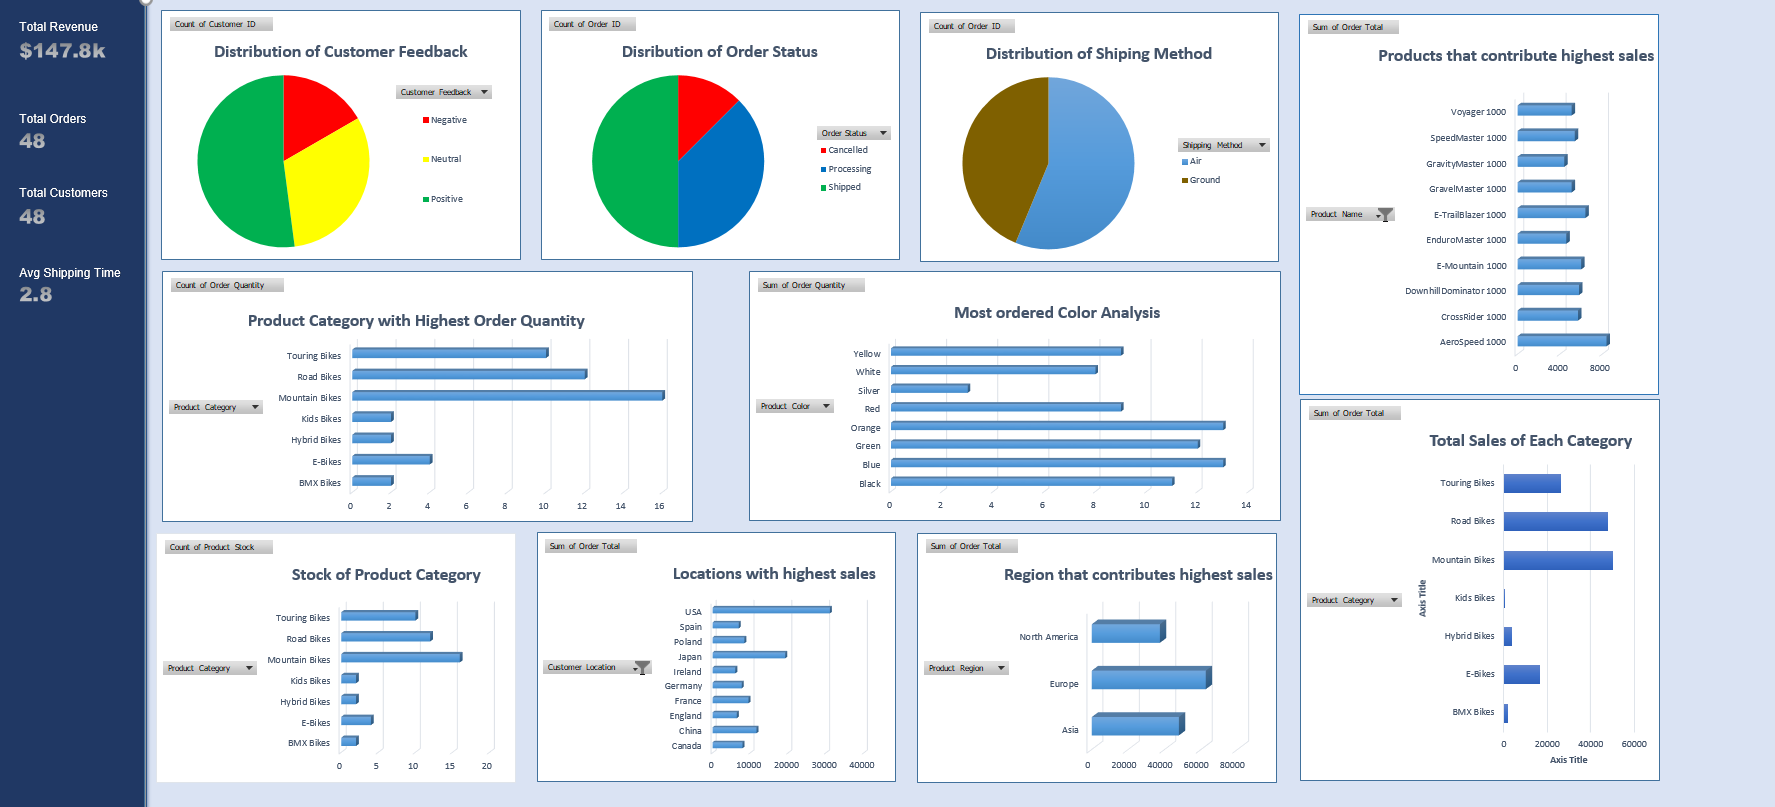

The dashboard page shown, as its layout file describes it:
{"tool":"powerbi","page":{"name":"Duplicate of Page 1","canvas":[1280,720],"ordinal":1},"visuals":[{"type":"cardVisual","title":"Total Revenue","fields":{"Data":["Sum(Sales.Order Total)"]},"box":[0,0,248.5,151.8],"z":0},{"type":"cardVisual","fields":{"Data":["Sum(Sales.Product Price)"]},"box":[262.2,1.2,247.2,151.8],"z":1000},{"type":"cardVisual","fields":{"Data":["CountNonNull(Sales.Customer ID)"]},"box":[523.2,1.2,235,150.5],"z":2000},{"type":"cardVisual","fields":{"Data":["CountNonNull(Sales.Order ID)"]},"box":[772,0,247.2,150.5],"z":3000},{"type":"clusteredBarChart","fields":{"Y":["Sum(Sales.Order Total)"],"Category":["Sales.Product Category"]},"box":[28.2,150.5,367.2,296.2],"z":4000},{"type":"clusteredBarChart","fields":{"Y":["Sum(Sales.Order Total)"],"Category":["Sales.Product Name"]},"box":[28.2,456.5,367.2,263.1],"z":5000},{"type":"clusteredBarChart","fields":{"Y":["Sum(Sales.Order Total)"],"Category":["Sales.Product Region"]},"box":[422.3,150.5,206.8,296.2],"z":6000},{"type":"funnel","fields":{"Category":["Sales.Product Region"],"Y":["Sum(Sales.Order Quantity)"]},"box":[422,457,207,263],"z":7000},{"type":"donutChart","fields":{"Category":["Sales.Customer Feedback"],"Y":["CountNonNull(Sales.Customer ID)"]},"box":[640.1,151.8,350,167.7],"z":8000},{"type":"donutChart","fields":{"Category":["Sales.Order Status"],"Y":["Sum(Sales.Order Total)"]},"box":[647.5,353.1,343.9,166.5],"z":9000},{"type":"donutChart","fields":{"Category":["Sales.Shipping Method"],"Y":["CountNonNull(Sales.Order Total)"]},"box":[638.9,553.2,359.8,166.5],"z":10000},{"type":"cardVisual","fields":{"Data":["Avg(Sales.Shipping Time (in Days))"]},"box":[1032.8,0,247.2,150.5],"z":11001},{"type":"clusteredBarChart","fields":{"Y":["CountNonNull(Sales.Product Stock)"],"Category":["Sales.Product Category"]},"box":[1001.5,150.4,261.7,295.9],"z":11002},{"type":"clusteredColumnChart","fields":{"Category":["Sales.Product Color"],"Y":["Sum(Sales.Order Quantity)"]},"box":[1001.5,457.3,261.7,261.7],"z":11003}]}

Visuals, with their boxes on the page's 1280x720 design canvas (x1, y1, x2, y2). These are canvas units, not pixel positions in the 1775x807 screenshot, which may show the page scaled, cropped or inside an application window:
"Total Revenue" cardVisual: region(0, 0, 248, 152)
cardVisual - Sum(Sales.Product Price): region(262, 1, 509, 153)
cardVisual - CountNonNull(Sales.Customer ID): region(523, 1, 758, 152)
cardVisual - CountNonNull(Sales.Order ID): region(772, 0, 1019, 150)
clusteredBarChart - Sum(Sales.Order Total) x Sales.Product Category: region(28, 150, 395, 447)
clusteredBarChart - Sum(Sales.Order Total) x Sales.Product Name: region(28, 456, 395, 720)
clusteredBarChart - Sum(Sales.Order Total) x Sales.Product Region: region(422, 150, 629, 447)
funnel - Sales.Product Region x Sum(Sales.Order Quantity): region(422, 457, 629, 720)
donutChart - Sales.Customer Feedback x CountNonNull(Sales.Customer ID): region(640, 152, 990, 320)
donutChart - Sales.Order Status x Sum(Sales.Order Total): region(648, 353, 991, 520)
donutChart - Sales.Shipping Method x CountNonNull(Sales.Order Total): region(639, 553, 999, 720)
cardVisual - Avg(Sales.Shipping Time (in Days)): region(1033, 0, 1280, 150)
clusteredBarChart - CountNonNull(Sales.Product Stock) x Sales.Product Category: region(1002, 150, 1263, 446)
clusteredColumnChart - Sales.Product Color x Sum(Sales.Order Quantity): region(1002, 457, 1263, 719)
